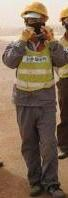boots: (0, 156, 11, 165), (0, 101, 6, 107)
gloves: (20, 25, 33, 41), (0, 87, 5, 99)
hard-hat: (19, 0, 47, 18)
vest: (0, 36, 21, 84)
